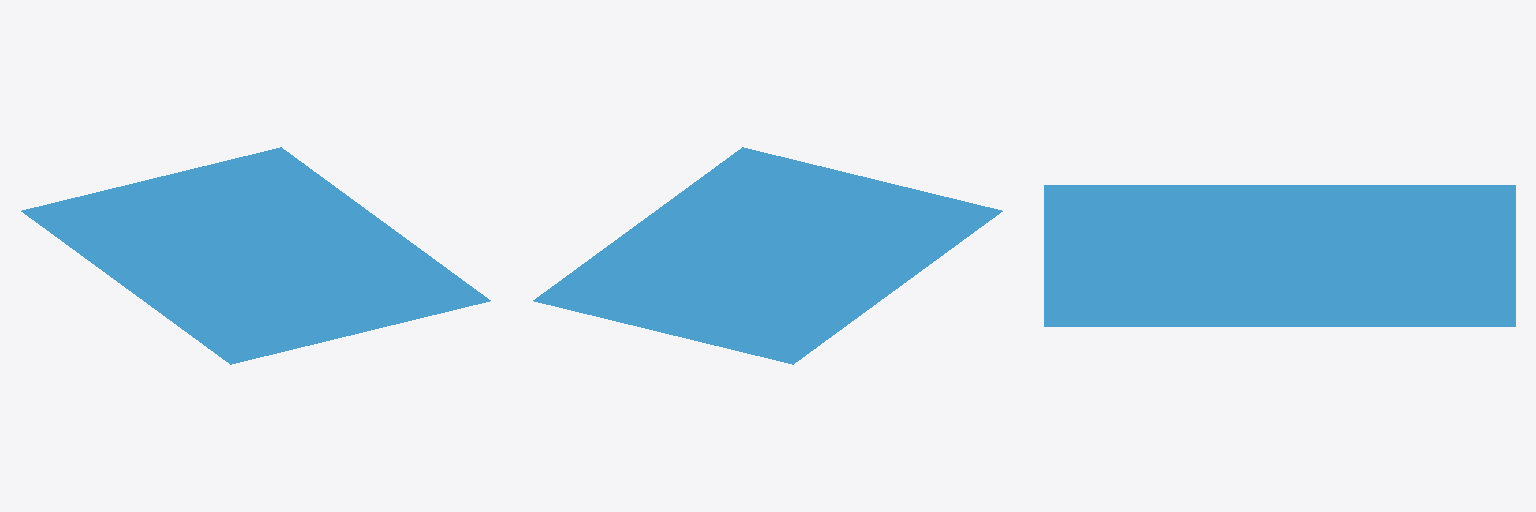
robot.urdf — partnet_dbac3b858ce8b14483e99a083b61b6a3:
<?xml version="1.0" ?>
<robot name="partnet_dbac3b858ce8b14483e99a083b61b6a3">
	<link name="base"/>
	<link name="link_0">
		<visual name="rotation_lid-1">
			<origin xyz="-0.6091959999999998 -0.2159913714805891 0.1393929269641485"/>
			<geometry>
				<mesh filename="textured_objs/original-2.obj"/>
			</geometry>
		</visual>
		<collision>
			<origin xyz="-0.6091959999999998 -0.2159913714805891 0.1393929269641485"/>
			<geometry>
				<mesh filename="textured_objs/original-2.obj"/>
			</geometry>
		</collision>
	</link>
	<joint name="joint_0" type="revolute">
		<origin xyz="0.6091959999999998 0.2159913714805891 -0.1393929269641485"/>
		<axis xyz="-1 0 0"/>
		<child link="link_0"/>
		<parent link="link_1"/>
		<limit lower="-1.8849555921538759" upper="1.300619358586174"/>
	</joint>
	<link name="link_1">
		<visual name="base_body-2">
			<origin xyz="0 0 0"/>
			<geometry>
				<mesh filename="textured_objs/original-1.obj"/>
			</geometry>
		</visual>
		<collision>
			<origin xyz="0 0 0"/>
			<geometry>
				<mesh filename="textured_objs/original-1.obj"/>
			</geometry>
		</collision>
	</link>
	<joint name="joint_1" type="fixed">
		<origin rpy="1.570796326794897 0 -1.570796326794897" xyz="0 0 0"/>
		<child link="link_1"/>
		<parent link="base"/>
	</joint>
</robot>

--- Facts derived from the render (not from the file) ---
Views: 3 orthographic renders of the robot side by side, from view 1: azimuth 30°, elevation 25°; view 2: azimuth 150°, elevation 25°; view 3: azimuth 270°, elevation 25°.
Model partnet_dbac3b858ce8b14483e99a083b61b6a3 with 3 links and 2 joints (1 revolute, 1 fixed), rooted at base, posed every joint at zero.
Visible links, largest first — view 1: link_0; view 2: link_0; view 3: link_0.
Boxes of the visible links, x1=… form: link_0: x1=21, y1=147, x2=490, y2=364; link_0: x1=533, y1=147, x2=1002, y2=364; link_0: x1=1044, y1=185, x2=1515, y2=326.
Size in the robot's own frame: 0.6784 by 0.9465 by 0 metres.
1 mesh visuals loaded from 2 distinct referenced files (1 OBJ); not drawn: 1 (reference not matched to a file when rendering).
